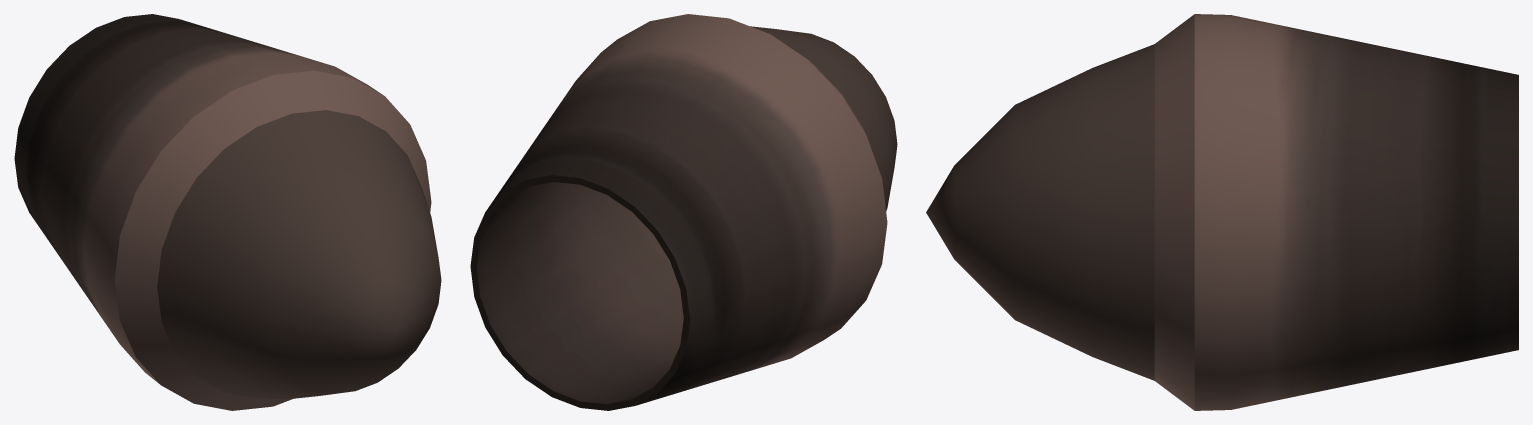
Rendered from CamelNozzle.fbx.
The picture shows the model from 3 angles, left to right: view 1: azimuth 30°, elevation 25°; view 2: azimuth 150°, elevation 25°; view 3: azimuth 270°, elevation 25°; orthographic projection. The views are drawn at different scales.
Visible parts, largest first — view 1: Cylinder; view 2: Cylinder; view 3: Cylinder.
Part boxes in pixels (<box>): Cylinder: <box>14,14,441,410</box>; Cylinder: <box>470,14,897,410</box>; Cylinder: <box>926,14,1518,410</box>.
Bounding box in the file's own units: 100 × 100 × 149.
1 material, 1 textured.
